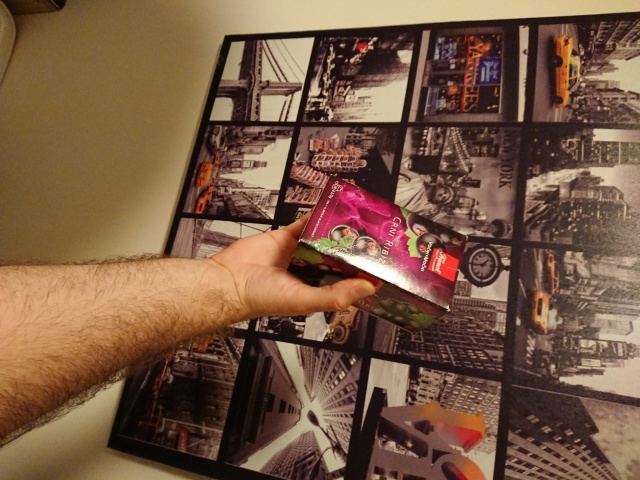Franck Black Currant Tea 60g: (284, 173, 470, 336)
